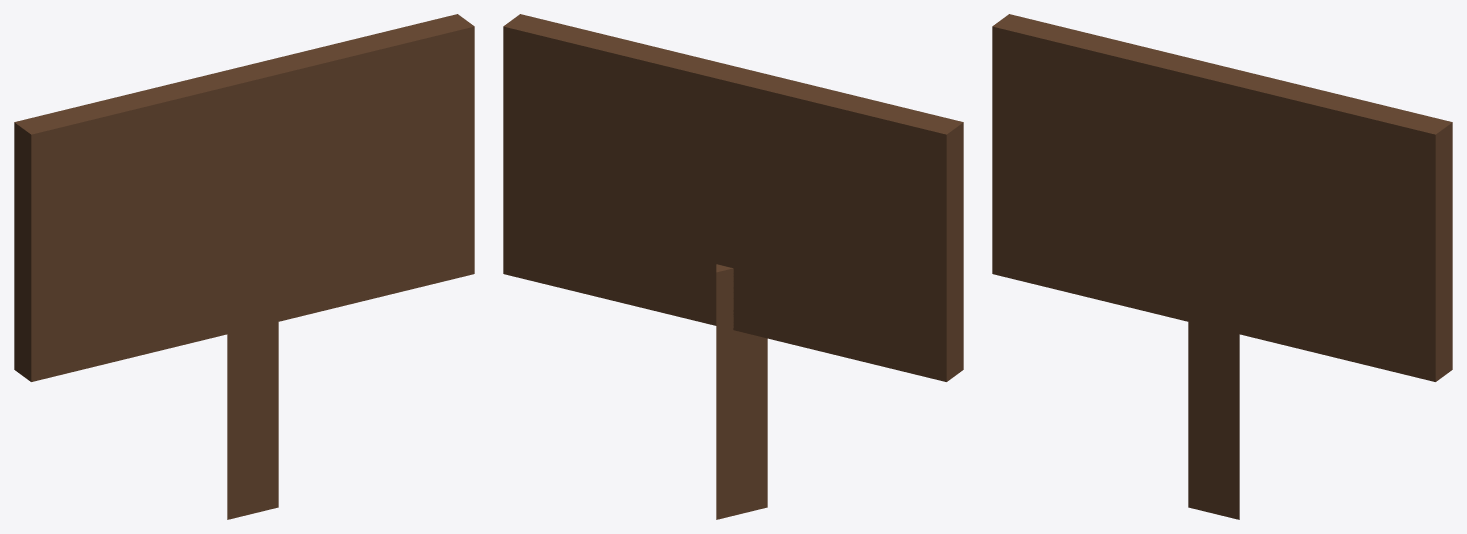
File: Sign.glb
3 views of the same model, side by side, from view 1: azimuth 30°, elevation 25°; view 2: azimuth 150°, elevation 25°; view 3: azimuth 330°, elevation 25° (orthographic).
Parts seen in each view (by area): view 1: cuboid, cylinder; view 2: cuboid, cylinder; view 3: cuboid, cylinder.
Part boxes in pixels (left/top/right/bottom): cuboid: left=14, top=14, right=474, bottom=381; cylinder: left=227, top=260, right=278, bottom=519; cuboid: left=503, top=14, right=963, bottom=381; cylinder: left=716, top=264, right=767, bottom=519; cuboid: left=992, top=14, right=1452, bottom=381; cylinder: left=1188, top=260, right=1239, bottom=519.
Bounding box in the file's own units: 0.9375 × 0.875 × 0.0938.
1 material, 1 textured.
